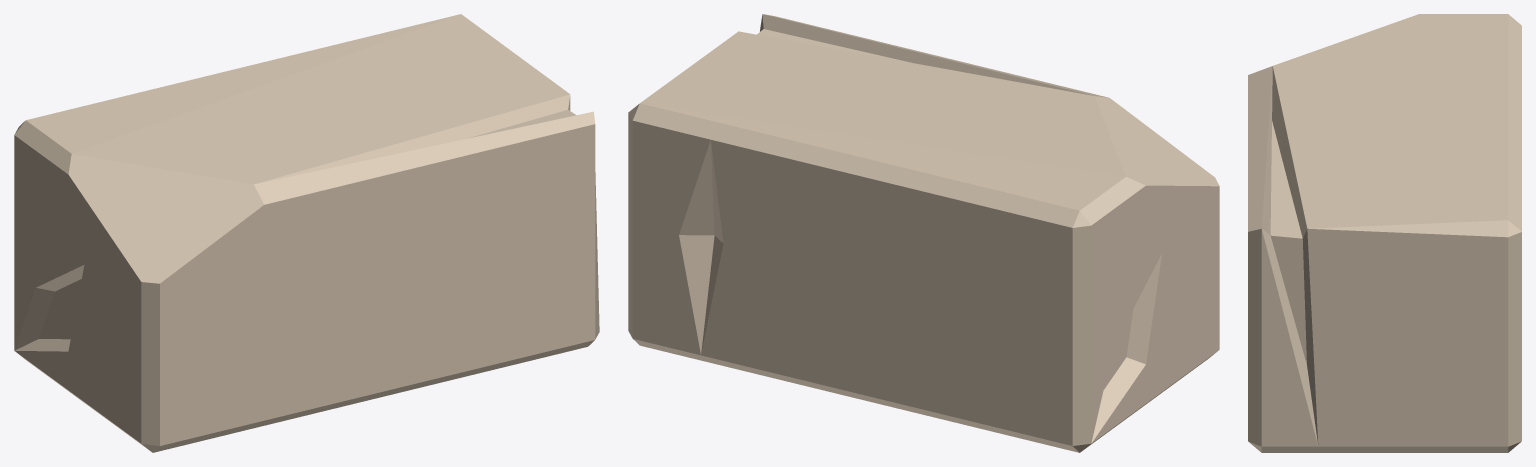
File: Brick_002.fbx
3 renders of one model, left to right at view 1: azimuth 30°, elevation 25°; view 2: azimuth 150°, elevation 25°; view 3: azimuth 270°, elevation 25°, orthographic. The views are drawn at different scales.
Parts seen in each view (by area): view 1: Brick_002; view 2: Brick_002; view 3: Brick_002.
Part boxes in pixels (x1,y1,x2,y2): Brick_002: [14, 14, 599, 452]; Brick_002: [628, 14, 1219, 452]; Brick_002: [1248, 14, 1521, 452].
Size of the model in its own units: 0.75 by 0.375 by 0.4.
